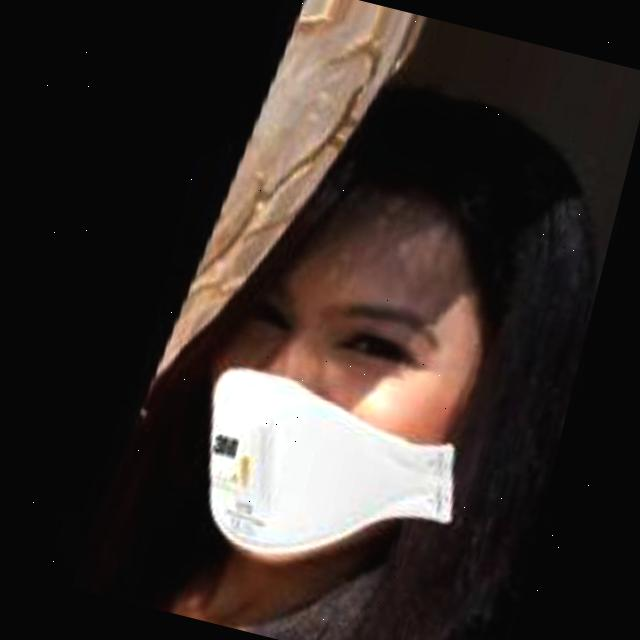suspicion: (162, 48, 576, 610)
